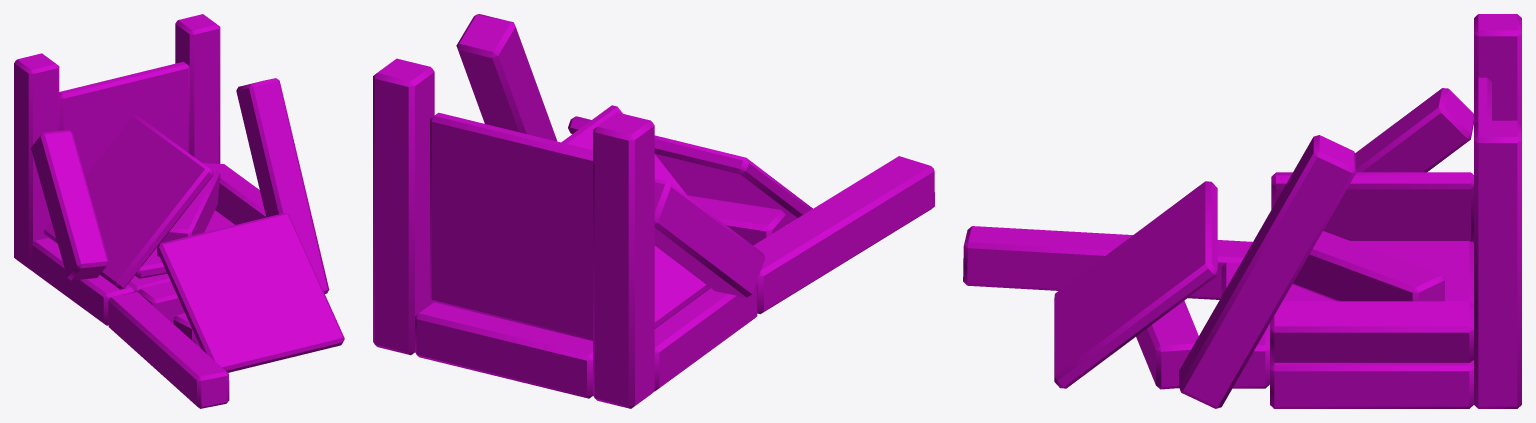
File: Destructible_State_03.fbx
3 renders of one model, left to right at view 1: azimuth 30°, elevation 25°; view 2: azimuth 150°, elevation 25°; view 3: azimuth 270°, elevation 25°, orthographic. The views are drawn at different scales.
Visible parts, largest first — view 1: Destructible_State_3; view 2: Destructible_State_3; view 3: Destructible_State_3.
Boxes of the visible parts, x1,y1,x2,y2 form: Destructible_State_3: (14, 14, 344, 408); Destructible_State_3: (373, 14, 934, 408); Destructible_State_3: (963, 14, 1521, 408).
Size of the model in its own units: 402 by 362 by 675.
